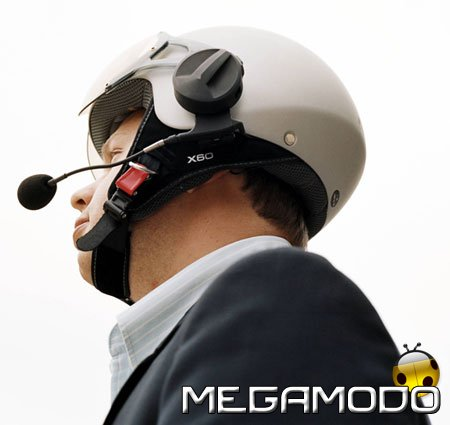helmet: (85, 39, 372, 207)
